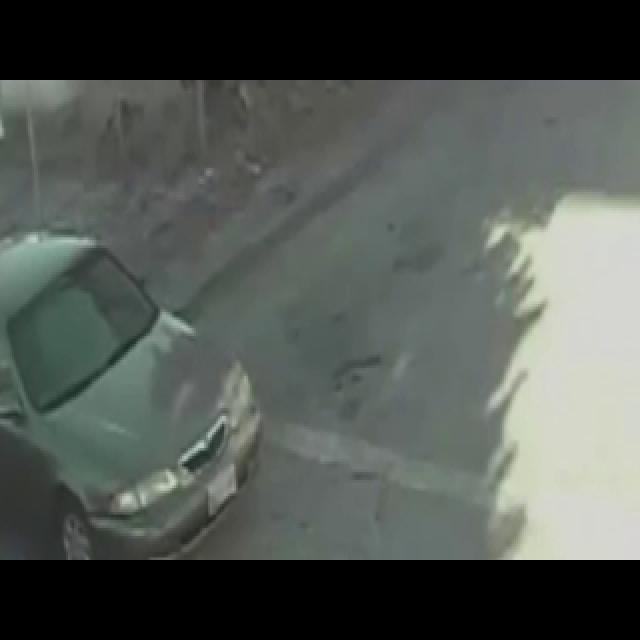shooting: (31, 151, 250, 522)
